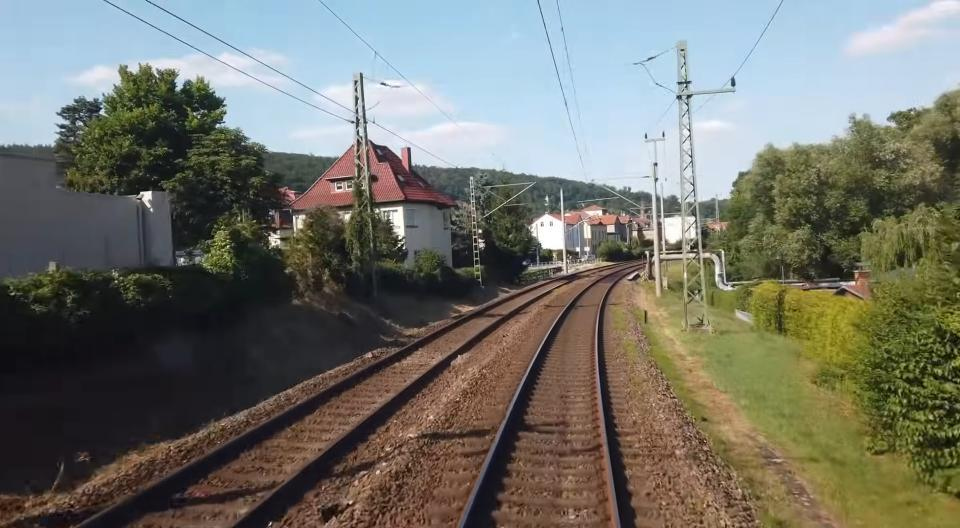Plant: (642, 324, 794, 528)
